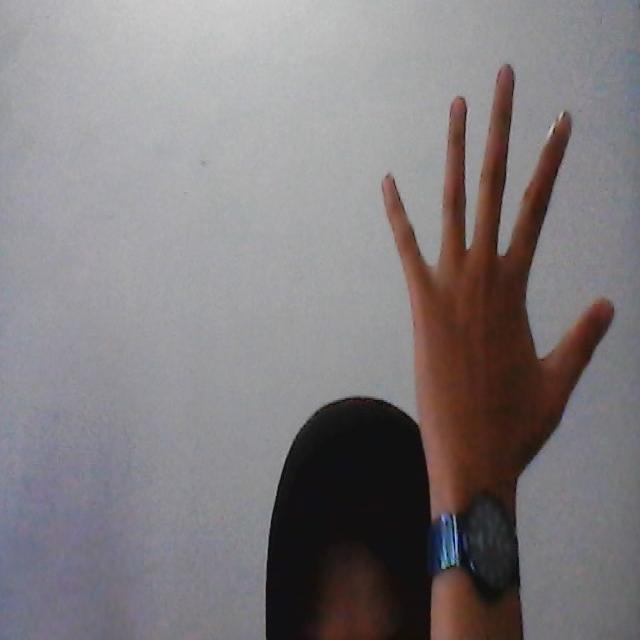hand: (382, 56, 640, 518)
